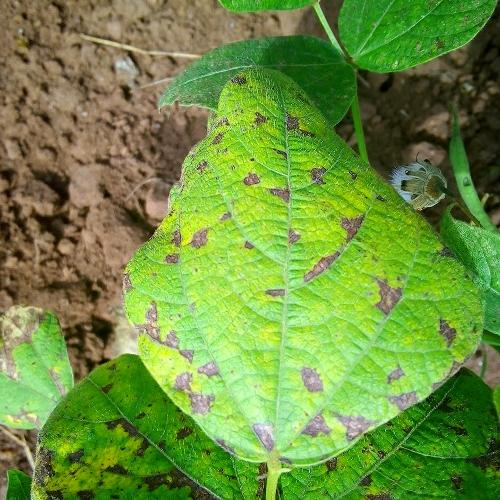hawar: (165, 94, 457, 371)
